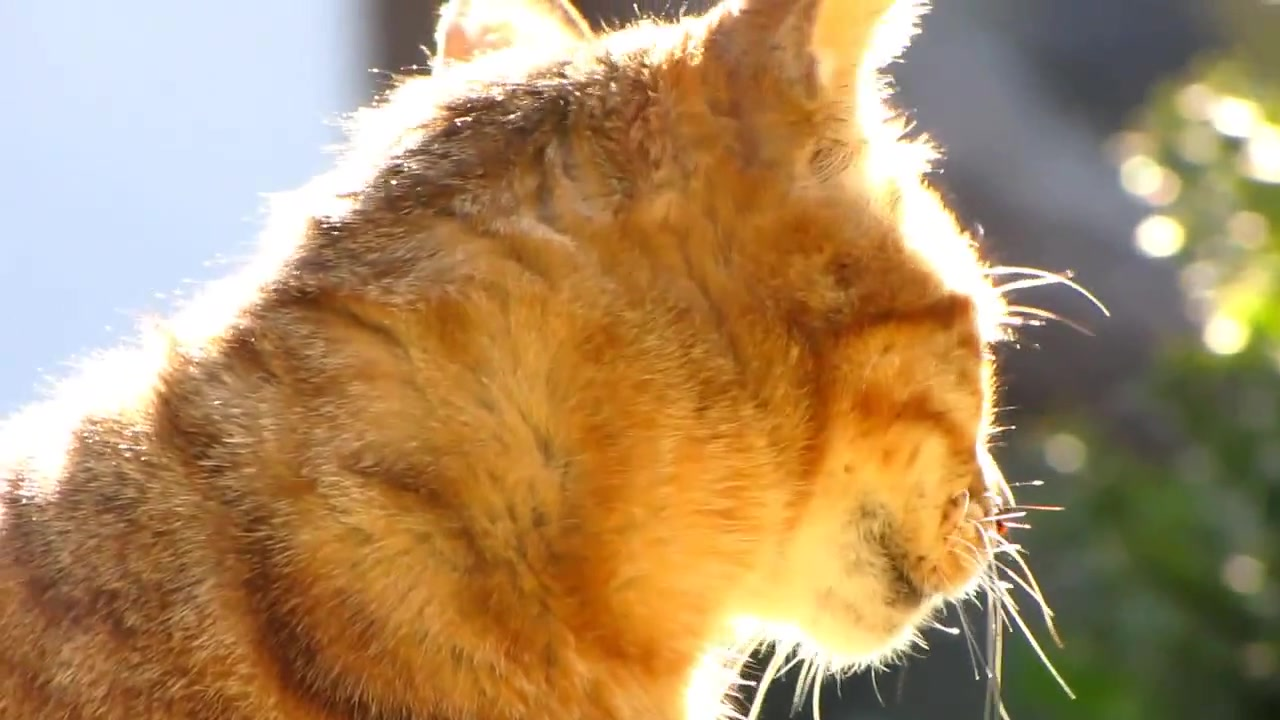cat: (1, 3, 1015, 719)
